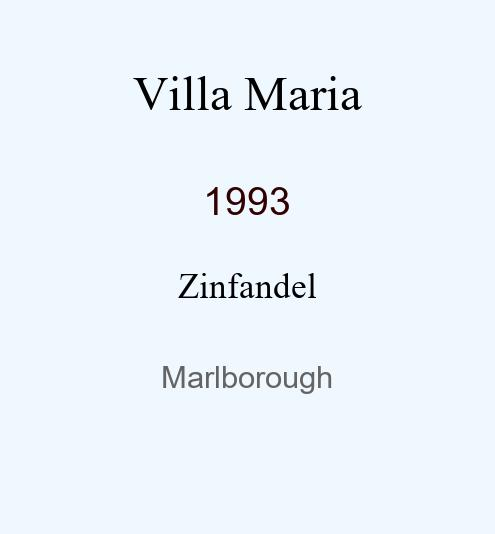brand: (133, 66, 362, 100)
region: (161, 359, 333, 387)
variety: (178, 266, 317, 291)
vintage: (203, 179, 291, 207)
